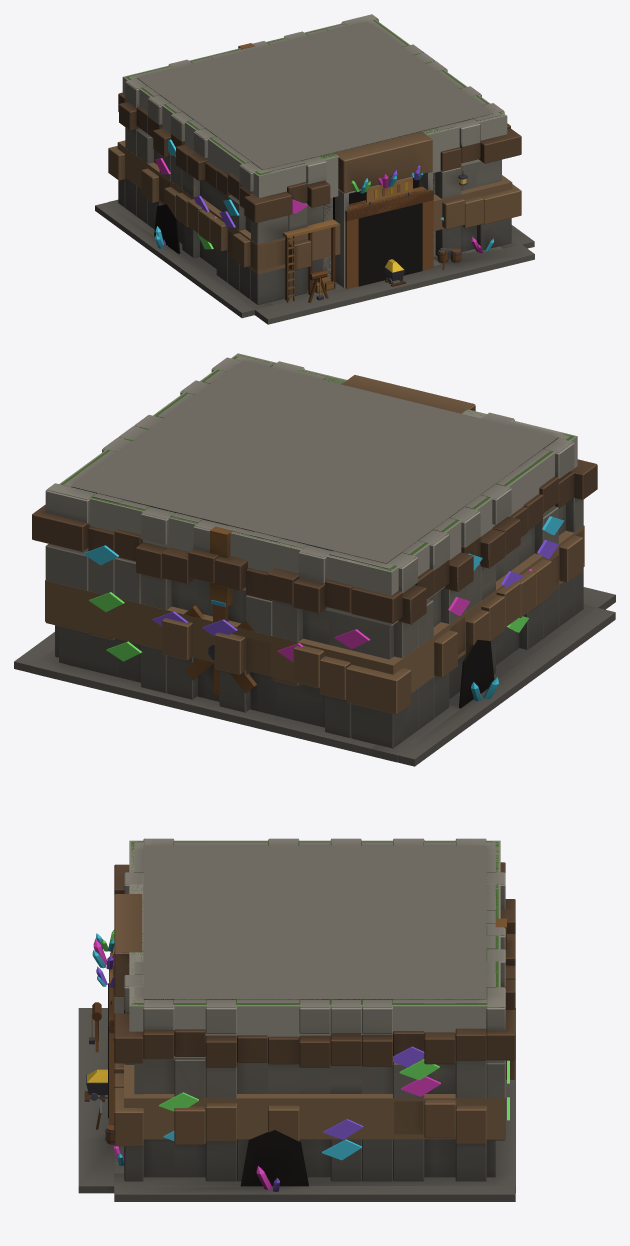
The model's file is MimicChestFloor.fbx.
3 renders of one model, top to bottom at view 1: azimuth 30°, elevation 25°; view 2: azimuth 150°, elevation 25°; view 3: azimuth 270°, elevation 25°, orthographic. The views are drawn at different scales.
Parts seen in each view (by area): view 1: MC_S_All, MC_F_Quiet, MC_F_Rings, MC_F_Smooth, MC_F_Glass, MC_F_Props; view 2: MC_S_All, MC_F_Quiet, MC_F_Rings, MC_F_Smooth, MC_F_Glass, MC_F_Props; view 3: MC_S_All, MC_F_Quiet, MC_F_Rings, MC_F_Smooth, MC_F_Glass, MC_F_Props.
Boxes of the visible parts, x1=… form: MC_S_All: x1=117, y1=19, x2=521, y2=314; MC_F_Quiet: x1=95, y1=20, x2=534, y2=319; MC_F_Rings: x1=108, y1=14, x2=521, y2=287; MC_F_Smooth: x1=95, y1=19, x2=534, y2=324; MC_F_Glass: x1=154, y1=139, x2=493, y2=249; MC_F_Props: x1=238, y1=43, x2=413, y2=293; MC_S_All: x1=31, y1=353, x2=596, y2=761; MC_F_Quiet: x1=14, y1=354, x2=615, y2=759; MC_F_Rings: x1=46, y1=356, x2=583, y2=714; MC_F_Smooth: x1=14, y1=367, x2=615, y2=766; MC_F_Glass: x1=83, y1=516, x2=564, y2=688; MC_F_Props: x1=208, y1=526, x2=232, y2=660; MC_S_All: x1=108, y1=840, x2=515, y2=1193; MC_F_Quiet: x1=78, y1=841, x2=515, y2=1194; MC_F_Rings: x1=109, y1=838, x2=514, y2=1145; MC_F_Smooth: x1=78, y1=839, x2=515, y2=1201; MC_F_Glass: x1=92, y1=929, x2=509, y2=1183; MC_F_Props: x1=86, y1=918, x2=506, y2=1094.
Size of the model in its own units: 60 by 20 by 60.
